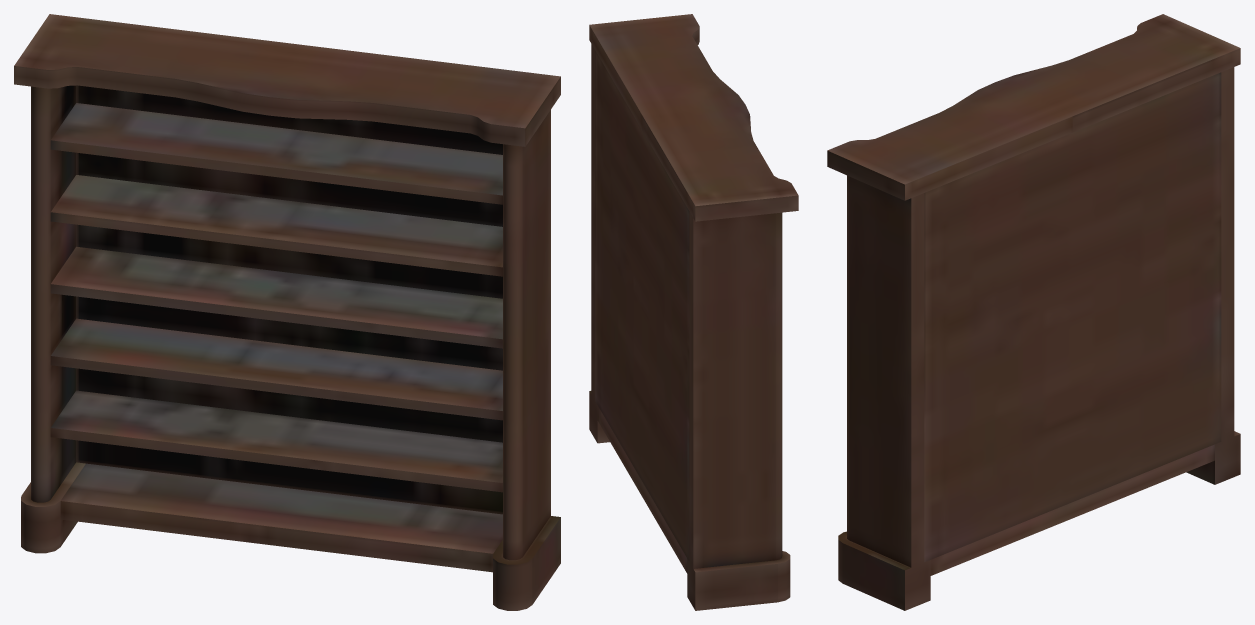
File: bookshelf-b49a992a.glb
The picture shows the model from 3 angles, left to right: view 1: azimuth 30°, elevation 25°; view 2: azimuth 150°, elevation 25°; view 3: azimuth 270°, elevation 25°; orthographic projection. The views are drawn at different scales.
Visible parts, largest first — view 1: Cylinder005_bookshelf_0; view 2: Cylinder005_bookshelf_0; view 3: Cylinder005_bookshelf_0.
Boxes of the visible parts, x1,y1,x2,y2 form: Cylinder005_bookshelf_0: [14, 14, 560, 610]; Cylinder005_bookshelf_0: [589, 14, 798, 610]; Cylinder005_bookshelf_0: [827, 14, 1240, 610].
Size of the model in its own units: 2.17 by 2.53 by 2.22.
Materials: 1 (1 with a texture image).
